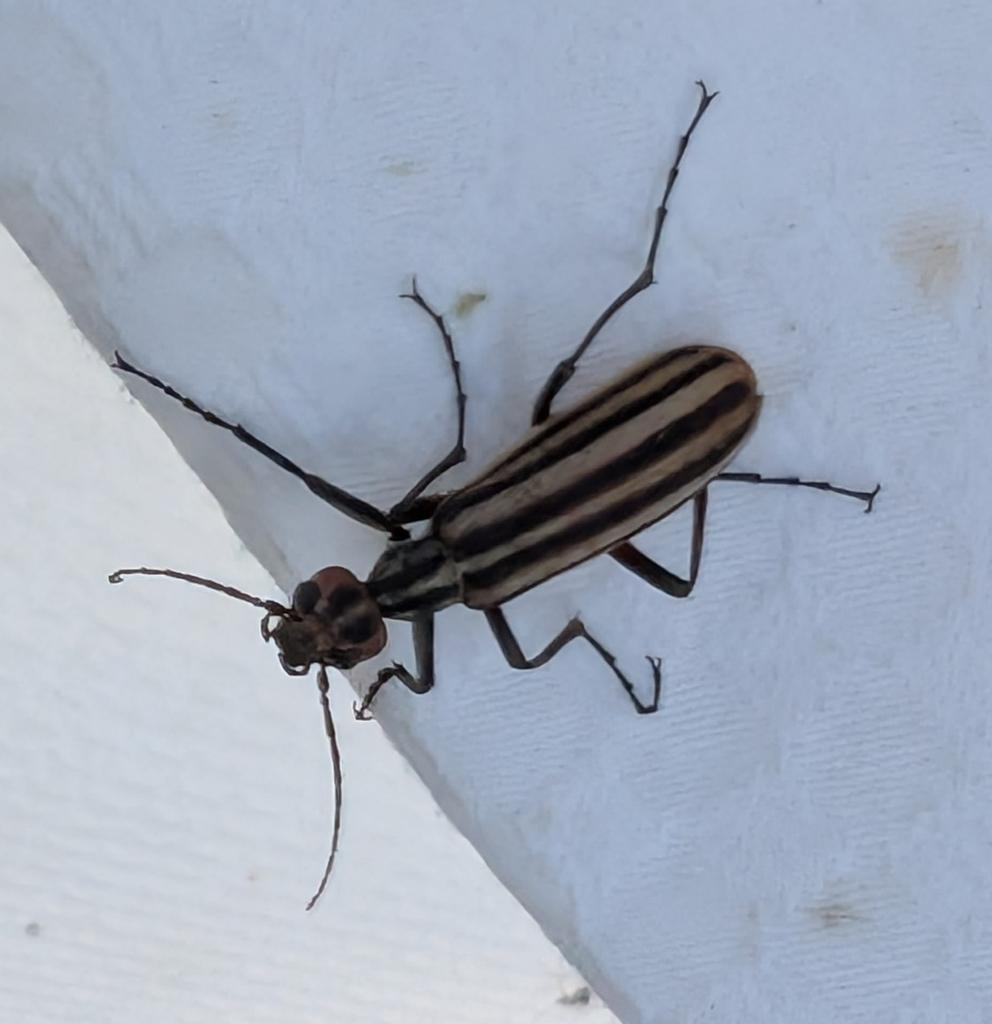blister_beetle: (0, 38, 992, 982)
